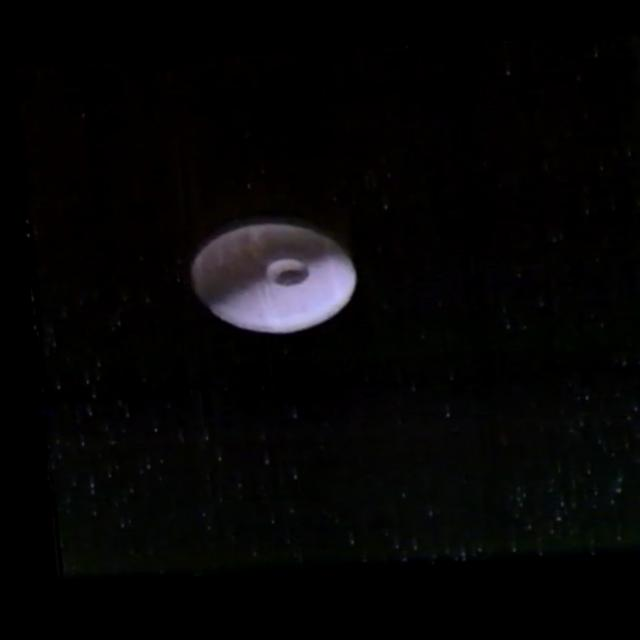deathStar: (178, 222, 351, 337)
